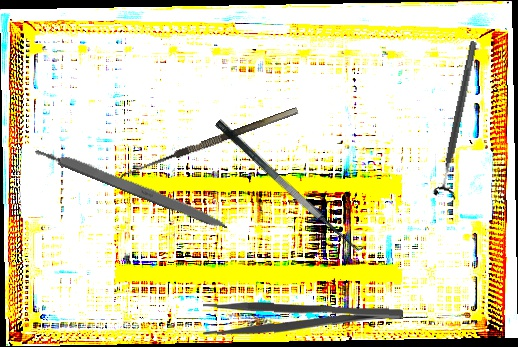Dressing Forceps: (202, 300, 404, 340)
Fixation Ring: (431, 39, 486, 200)
Hook Surgical: (116, 106, 303, 189)
Scalpel Handle: (33, 141, 231, 233)
Spatula Surgical: (213, 107, 371, 260)
